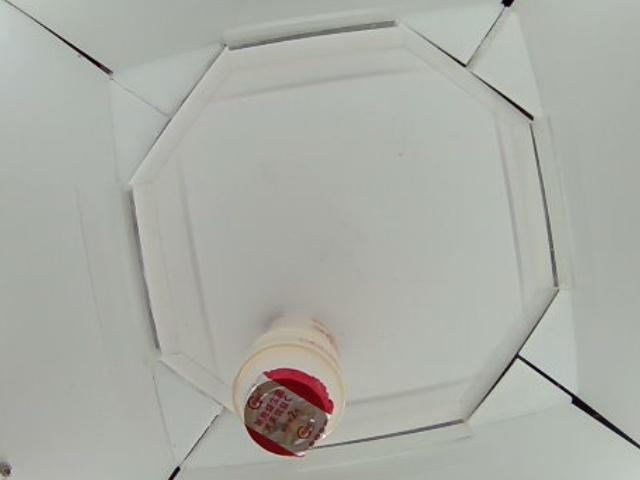Bottle: (232, 315, 343, 460)
